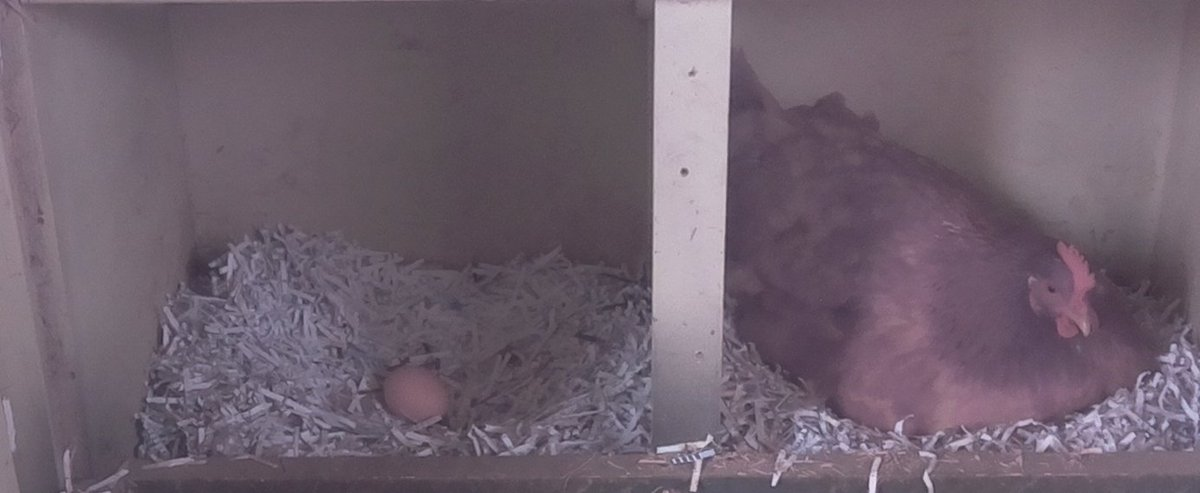egg: (377, 362, 455, 435)
hen: (728, 81, 1168, 434)
